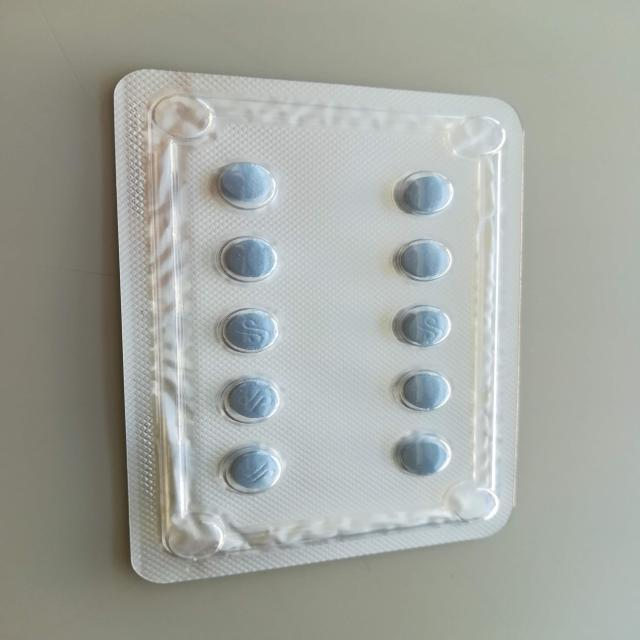Pill: (206, 442, 292, 505), (204, 153, 288, 215), (202, 231, 286, 287), (215, 368, 290, 430), (215, 298, 288, 360), (387, 165, 462, 222), (383, 298, 456, 354), (387, 231, 458, 284), (392, 366, 464, 418), (387, 430, 458, 480)
